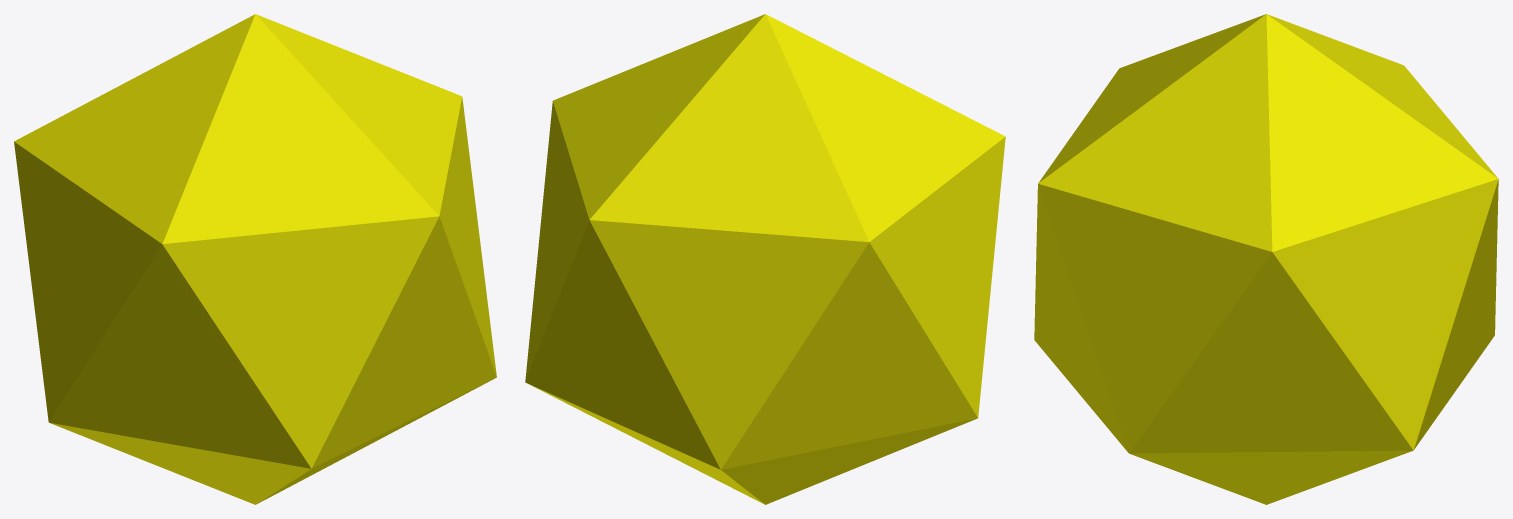
The model's file is win.fbx.
3 renders of one model, left to right at view 1: azimuth 30°, elevation 25°; view 2: azimuth 150°, elevation 25°; view 3: azimuth 270°, elevation 25°, orthographic.
Parts seen in each view (by area): view 1: Icosphere; view 2: Icosphere; view 3: Icosphere.
Part boxes in pixels (box(x1,y1,x2,y2)): Icosphere: box(14, 14, 496, 504); Icosphere: box(525, 14, 1005, 504); Icosphere: box(1034, 14, 1498, 504).
Size of the model in its own units: 179 by 200 by 171.
